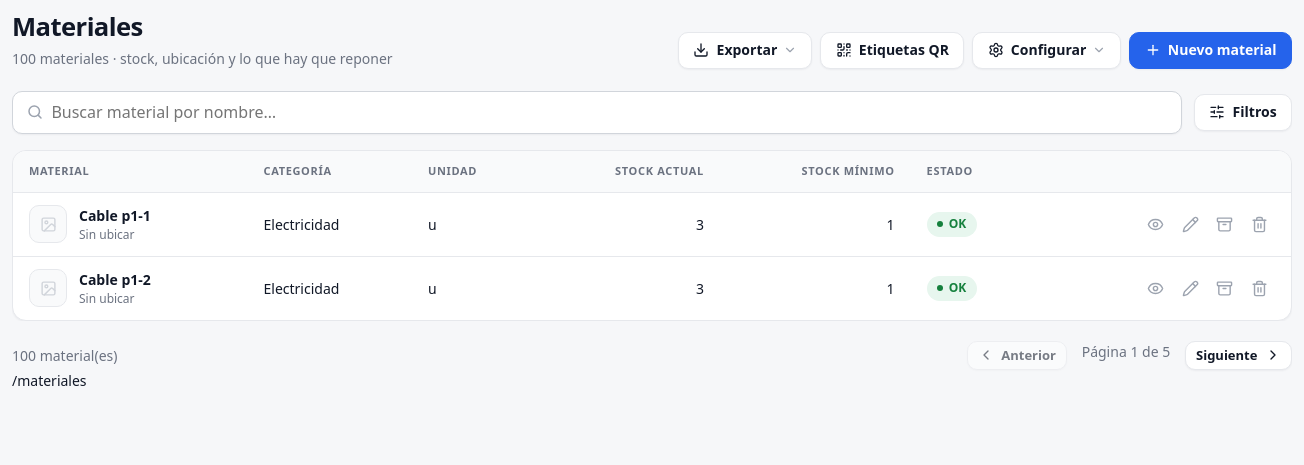
Scenario: volver a la lista de materiales › la búsqueda también vuelve, y la dirección se puede compartir
In the search field with placeholder "Buscar material por nombre…": (597, 112) [12,91,1182,134], type "cable"
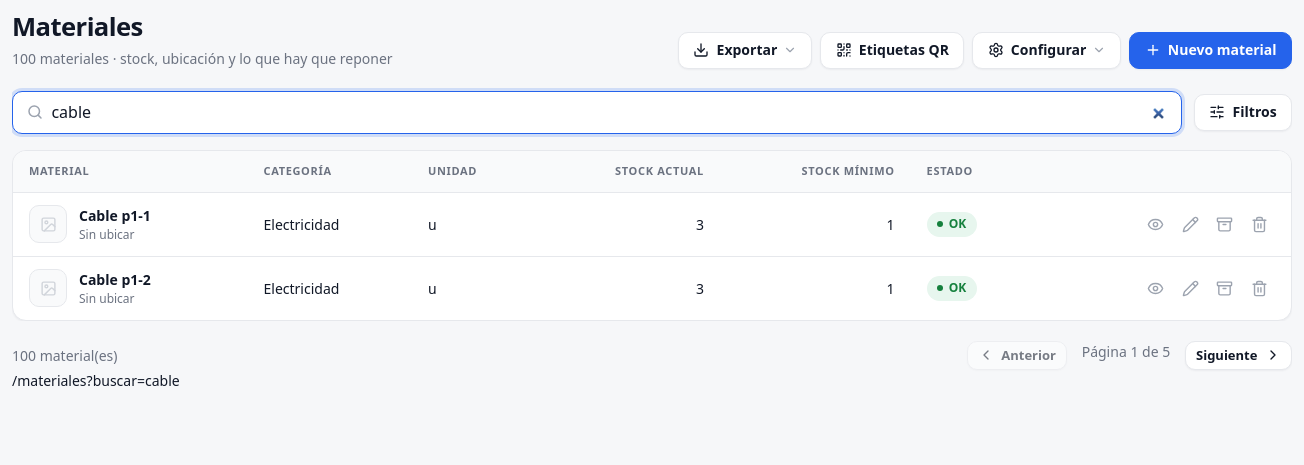
Check: the text with test id "direccion" reads "/materiales?buscar=cable", box [12,371,180,390]
Click the link "Cable p1-1": click(115, 215) [79,205,151,226]
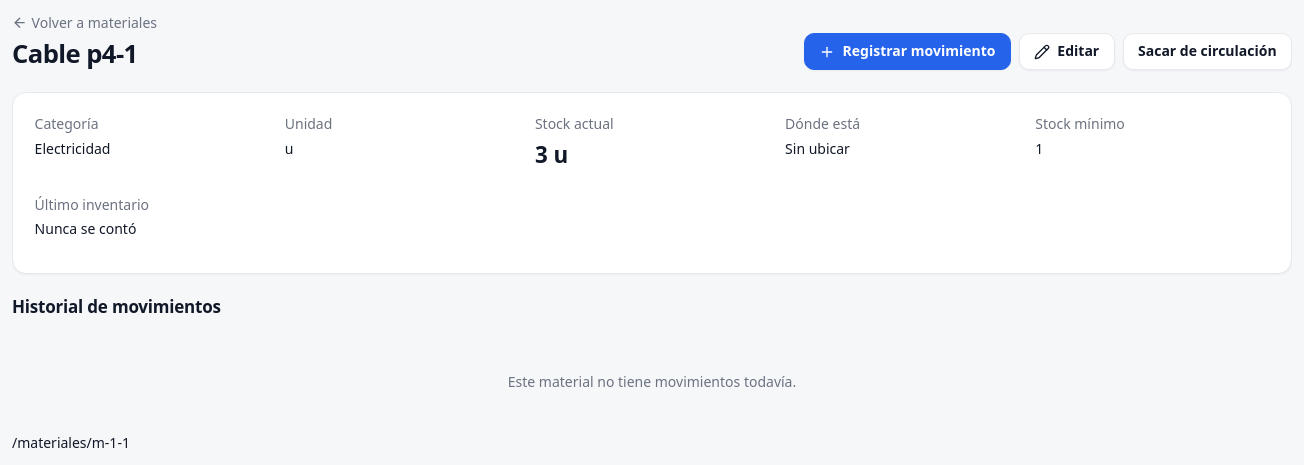
Click the link "Volver a materiales": click(85, 22) [12,13,157,32]
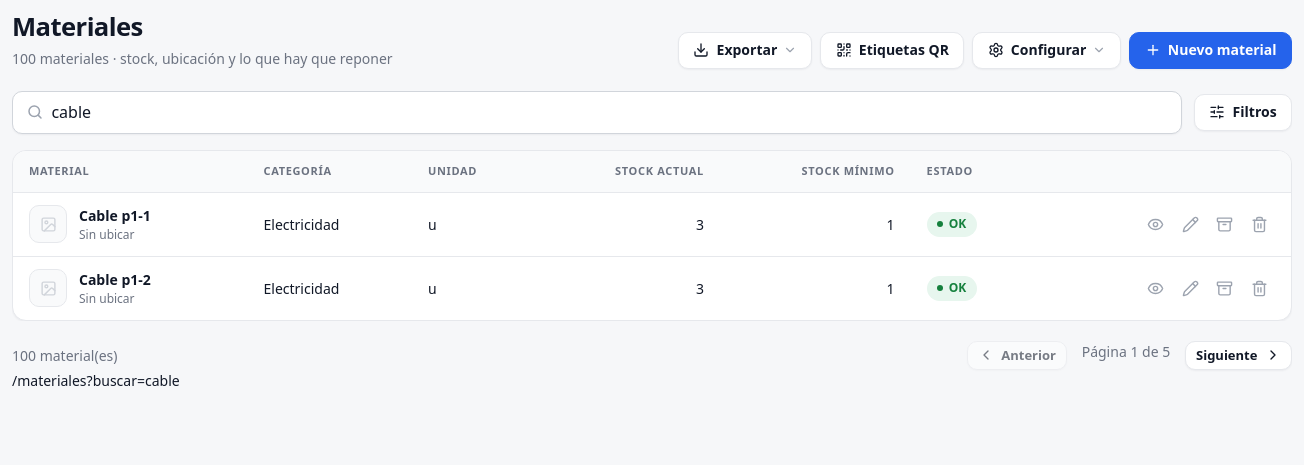
Check: the search field with placeholder "Buscar material por nombre…" holds "cable", box [12,91,1182,134]
Check: the text with test id "direccion" reads "/materiales?buscar=cable", box [12,371,180,390]
